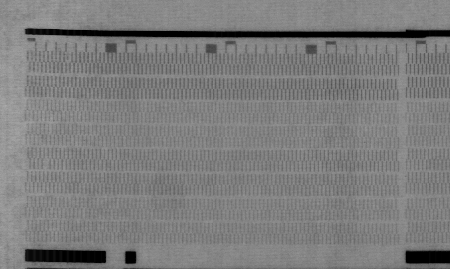Broken hole: (41, 159, 52, 172)
